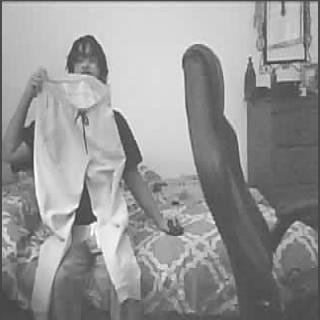White Sweatpants: (24, 73, 142, 320)
